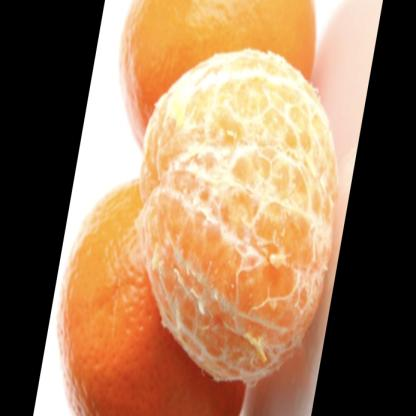fresh: (62, 2, 337, 416)
